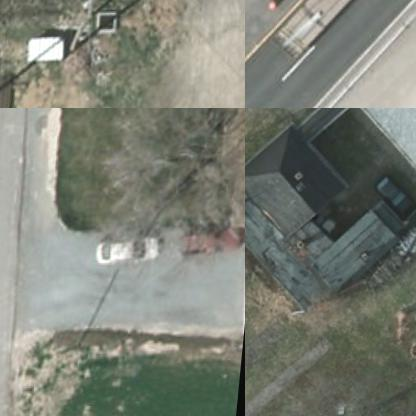car: (95, 233, 164, 264), (374, 174, 415, 216)
truck: (258, 0, 415, 61)
